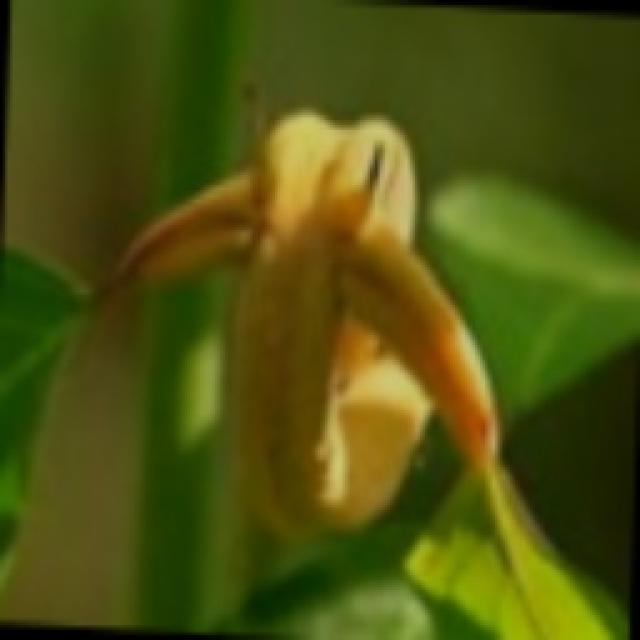Elderberry_rust: (100, 95, 505, 545)
